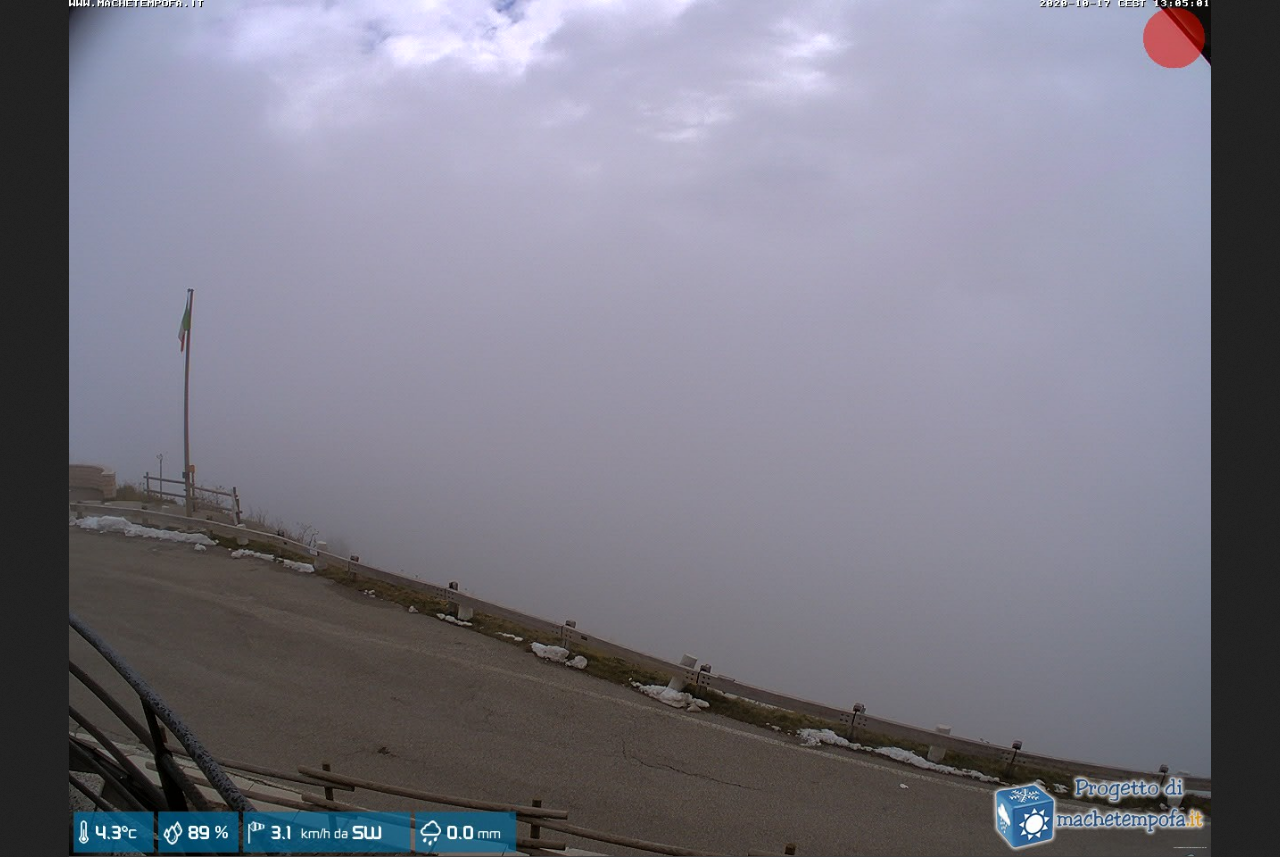no: (176, 287, 198, 354)
